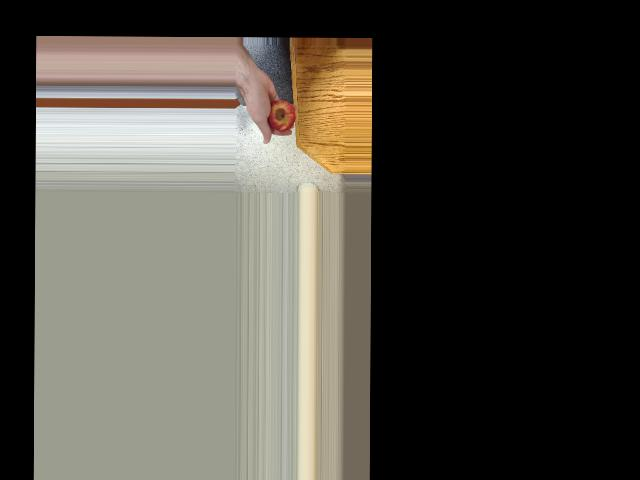apple: (265, 95, 296, 132)
